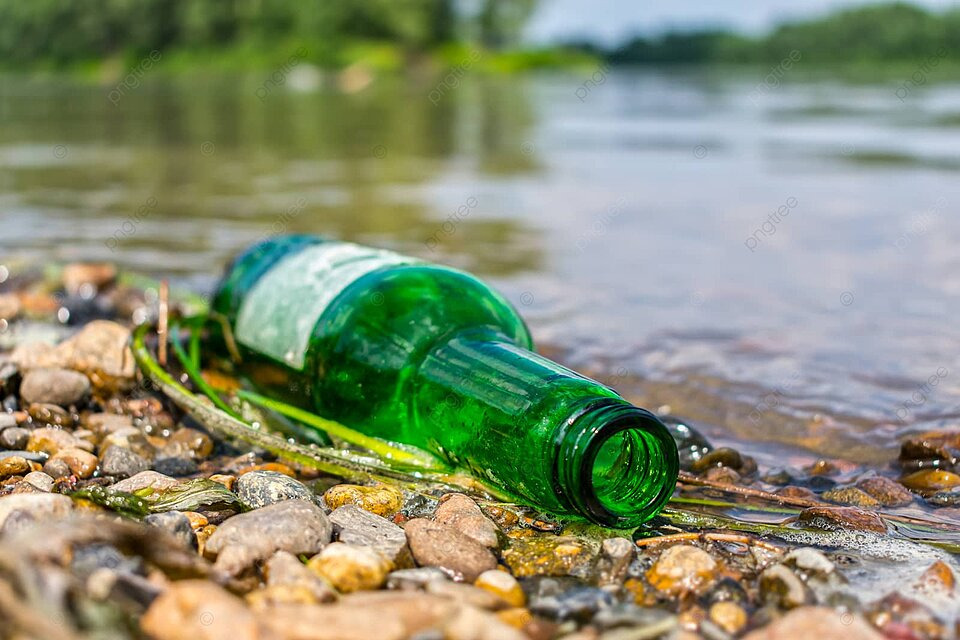glass_bottle: (184, 208, 686, 547)
